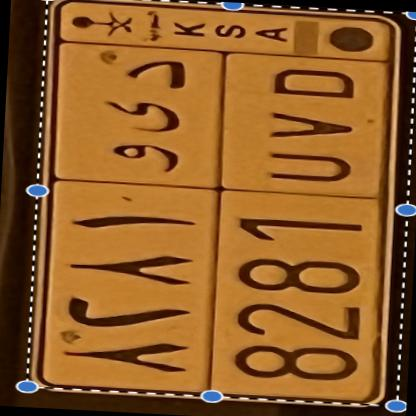english: (201, 44, 393, 402)
